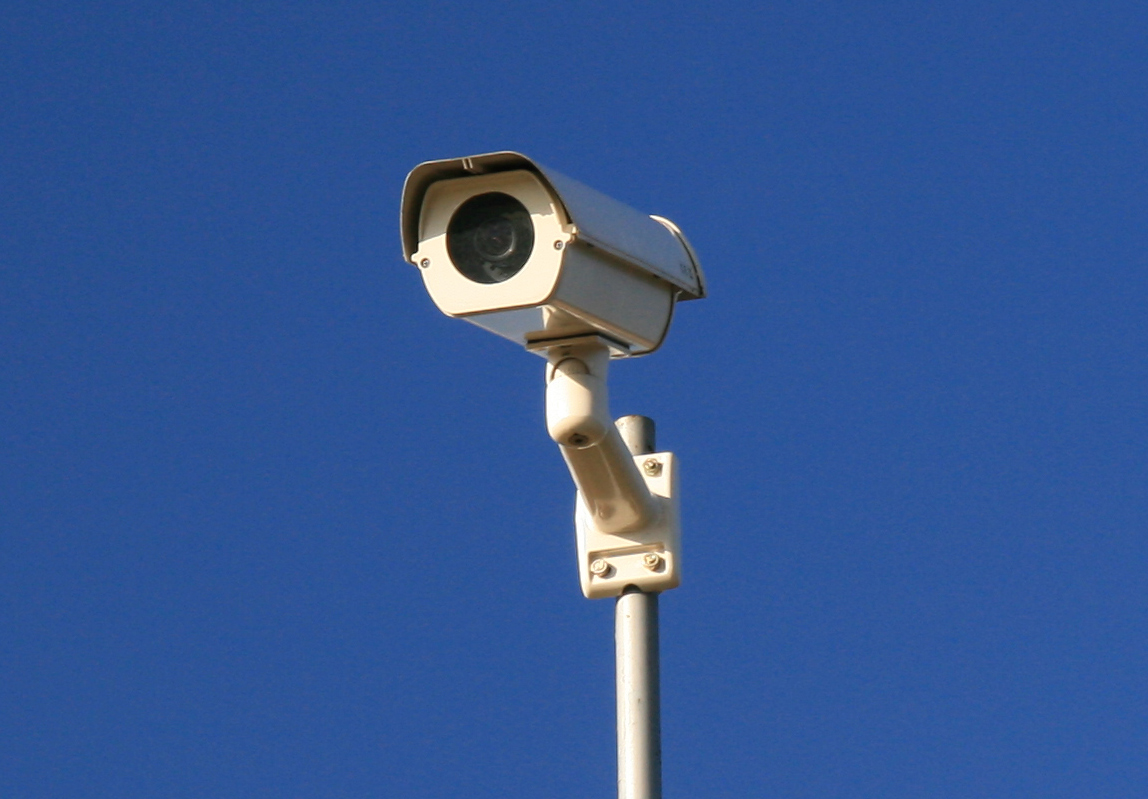CC Camera: (383, 138, 716, 368)
